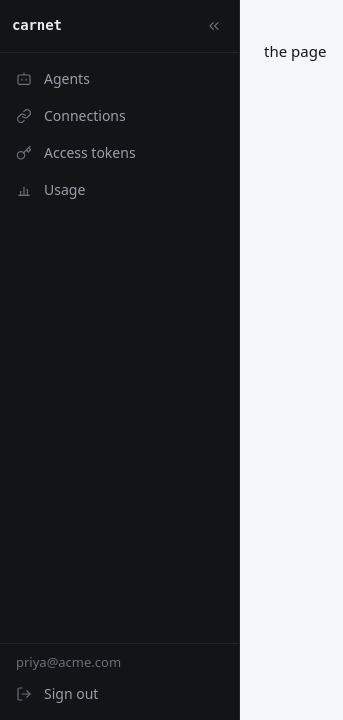
it: the collapsed rail › remembers itself, because it is a preference and not a mode
Click the button named "Collapse sidebar" at x=213, y=26, box [199,12,227,40]
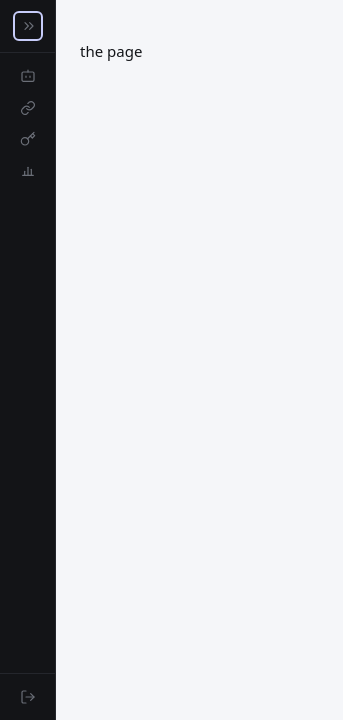
Expected: the button named "Expand sidebar" is collapsed, [14,12,42,40]
